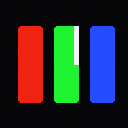4 line_v: (74, 26, 78, 64)
